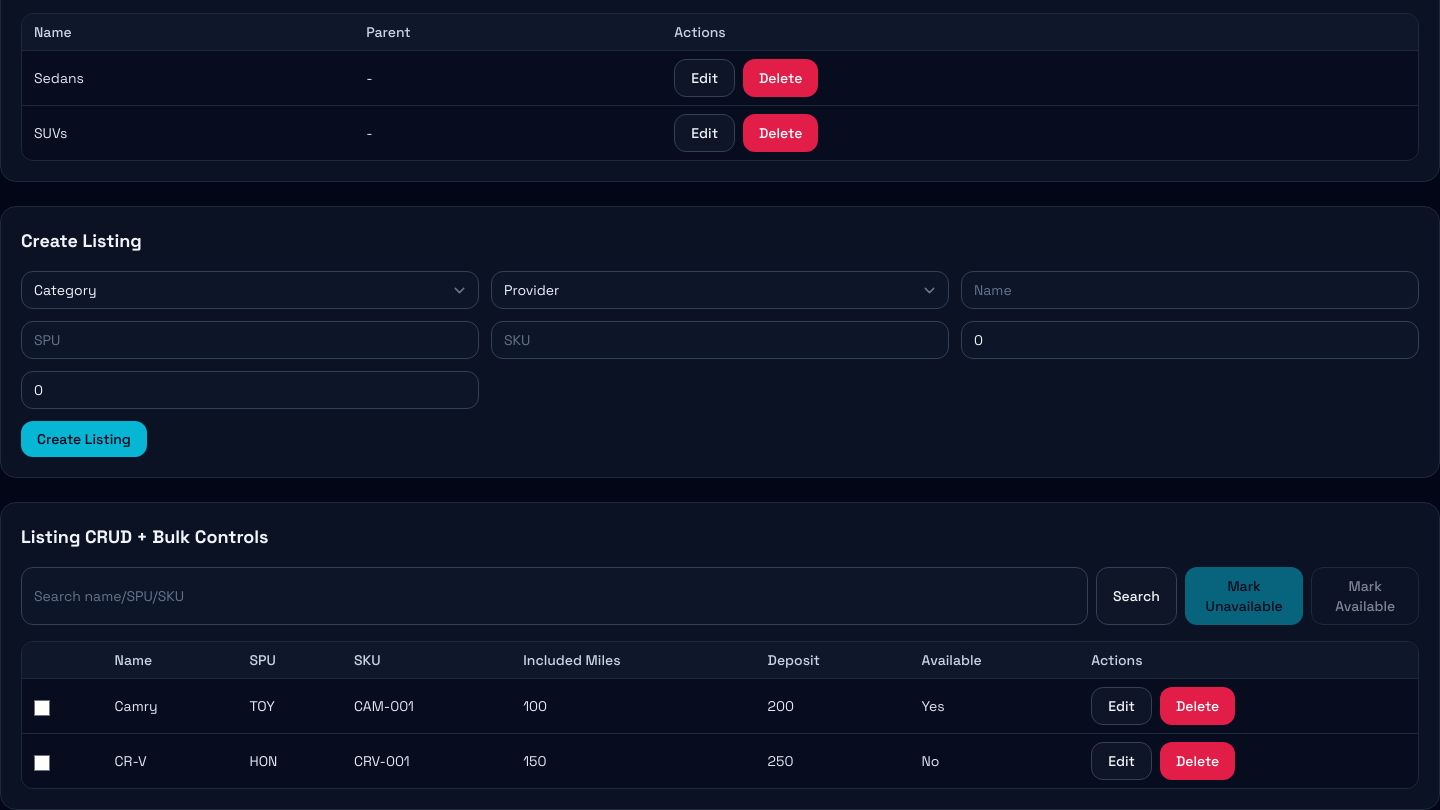
AdminCatalogPage › checkbox enables bulk operations when checked
The width and height of the screenshot is (1440, 810).
(page scrolled)
Expected: the text "Camry" is shown, [103, 678, 238, 734]
Click the checkbox next to "Camry": click(42, 708) [34, 700, 50, 716]
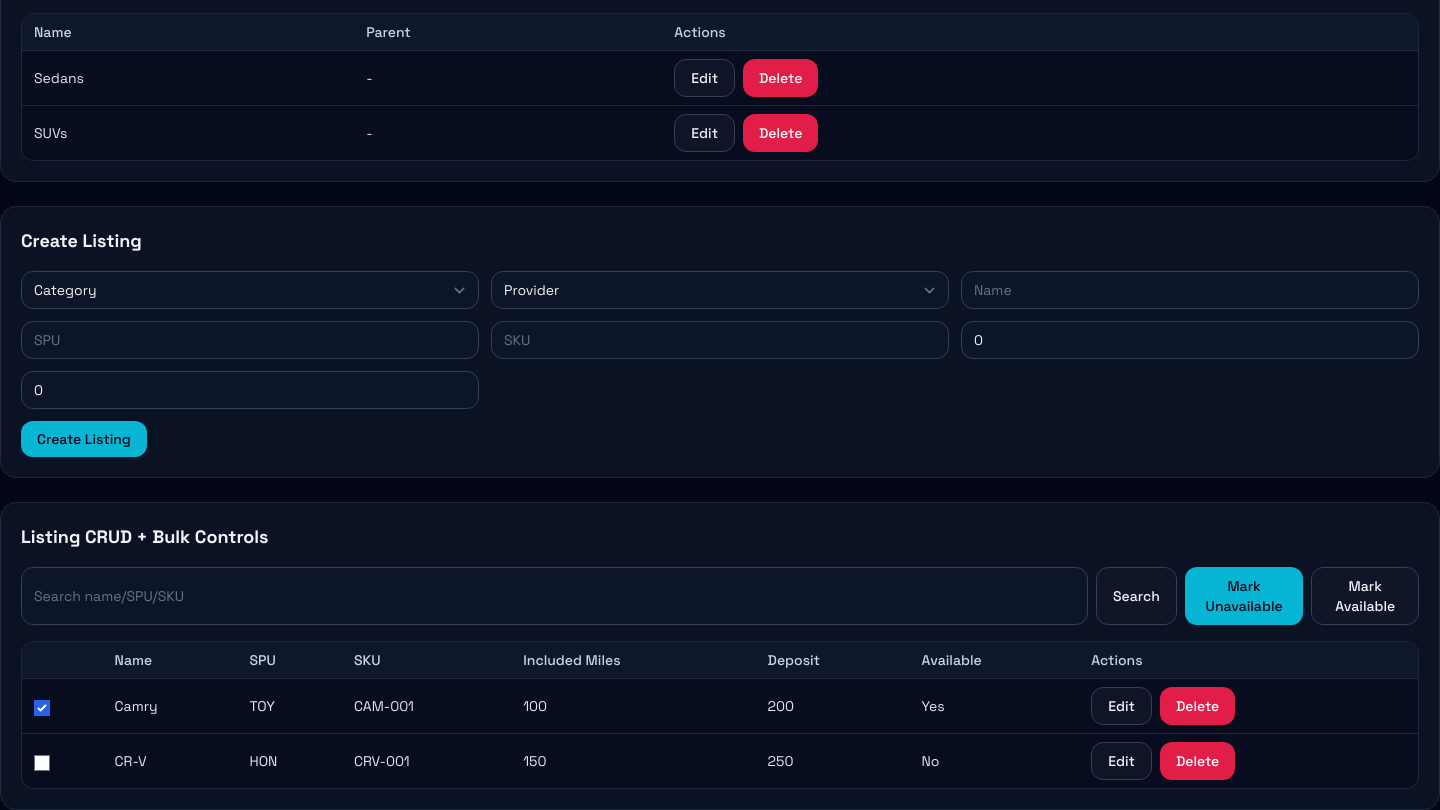
Now the button "Mark Unavailable" is enabled, box [1185, 567, 1303, 625]
